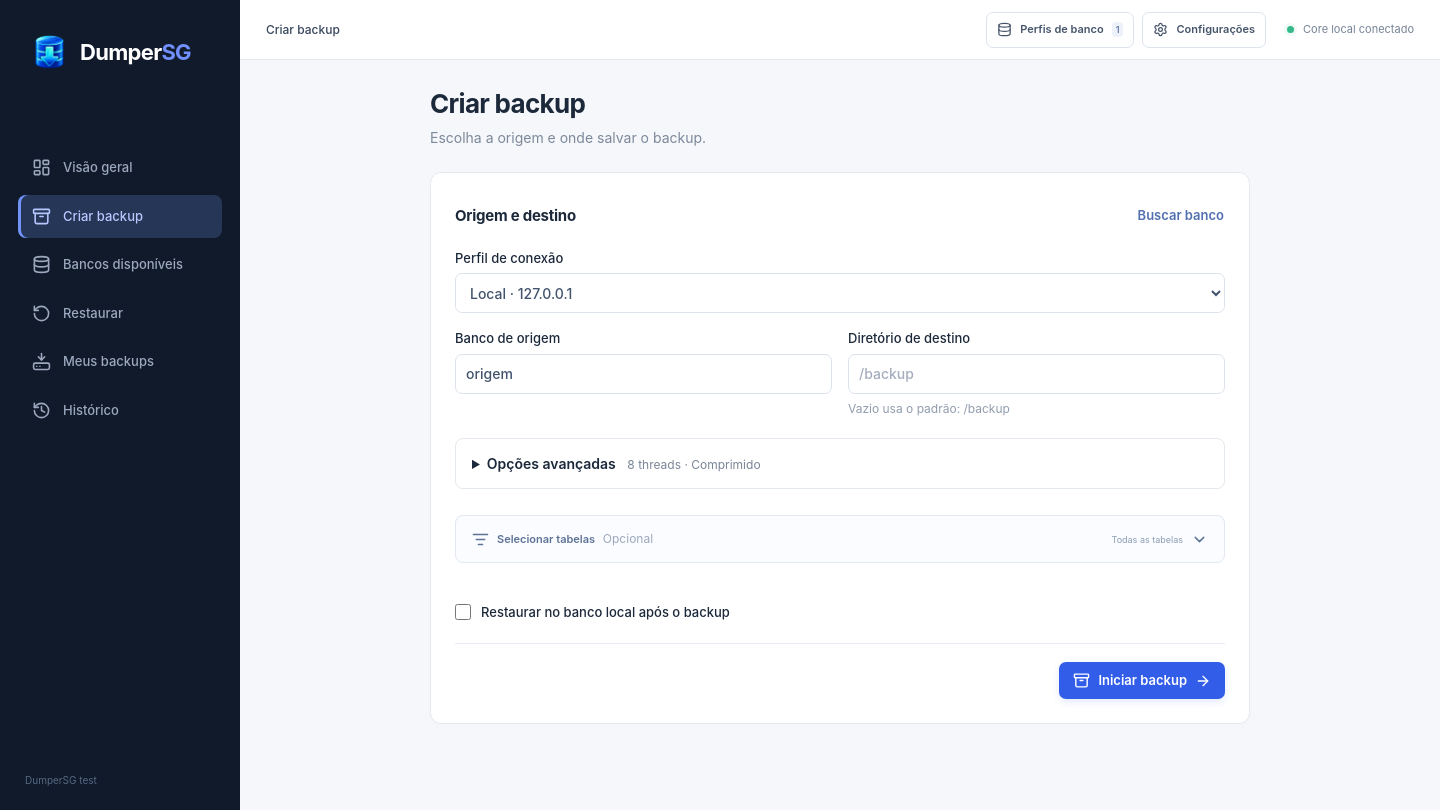
it: navegação durante operações › abre o modal ao iniciar e permite minimizar e reabrir a operação
What coordinates should you click on to do the following:
click the button "Iniciar backup"
I would click on:
 (1142, 681)
Its box is x1=1059 y1=662 x2=1225 y2=700.
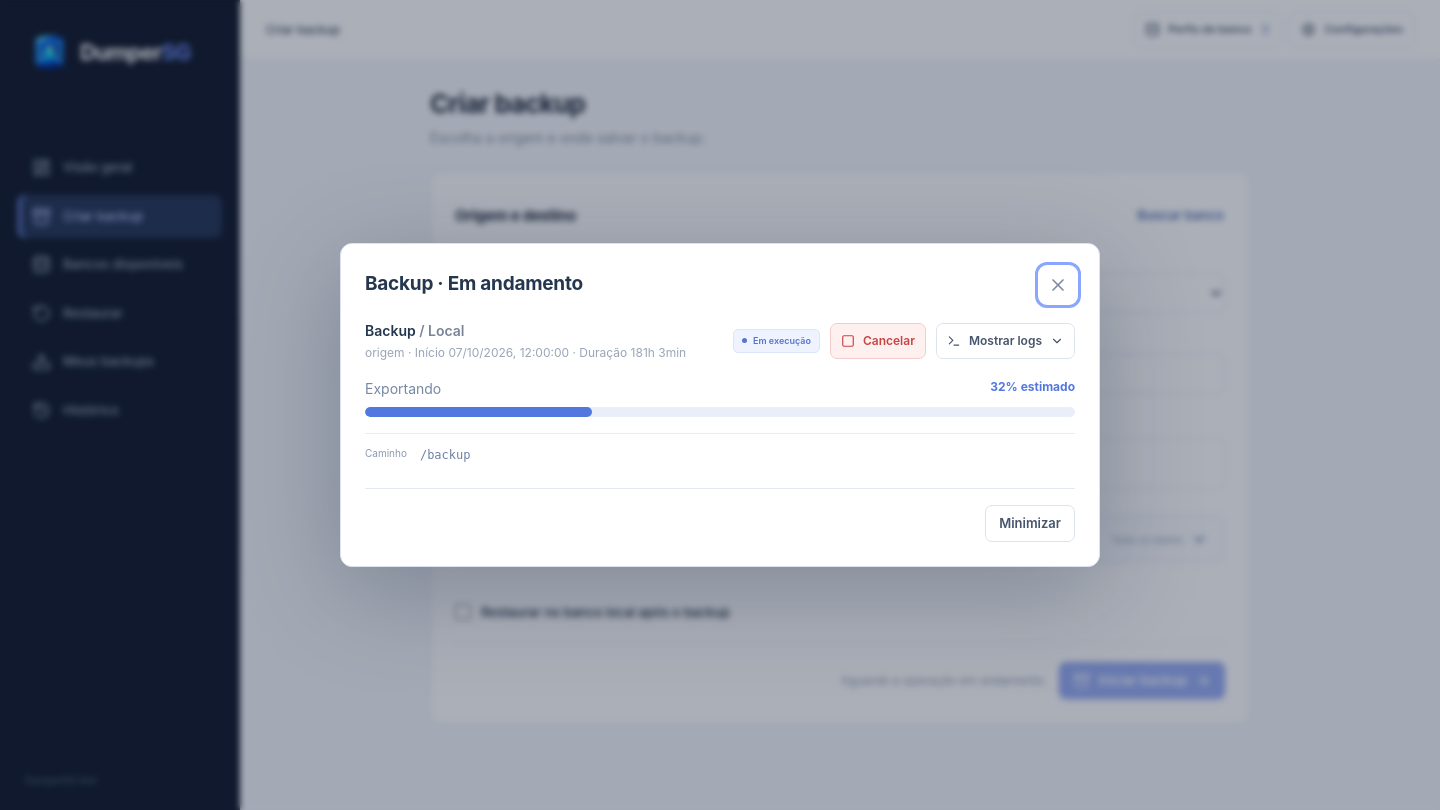
Expected: the text "32% estimado" is shown, x1=990 y1=378 x2=1075 y2=396
What coordinates should you click on to do the following:
click the button "Minimizar"
I would click on:
 (1030, 524)
Its box is x1=985 y1=505 x2=1075 y2=542.
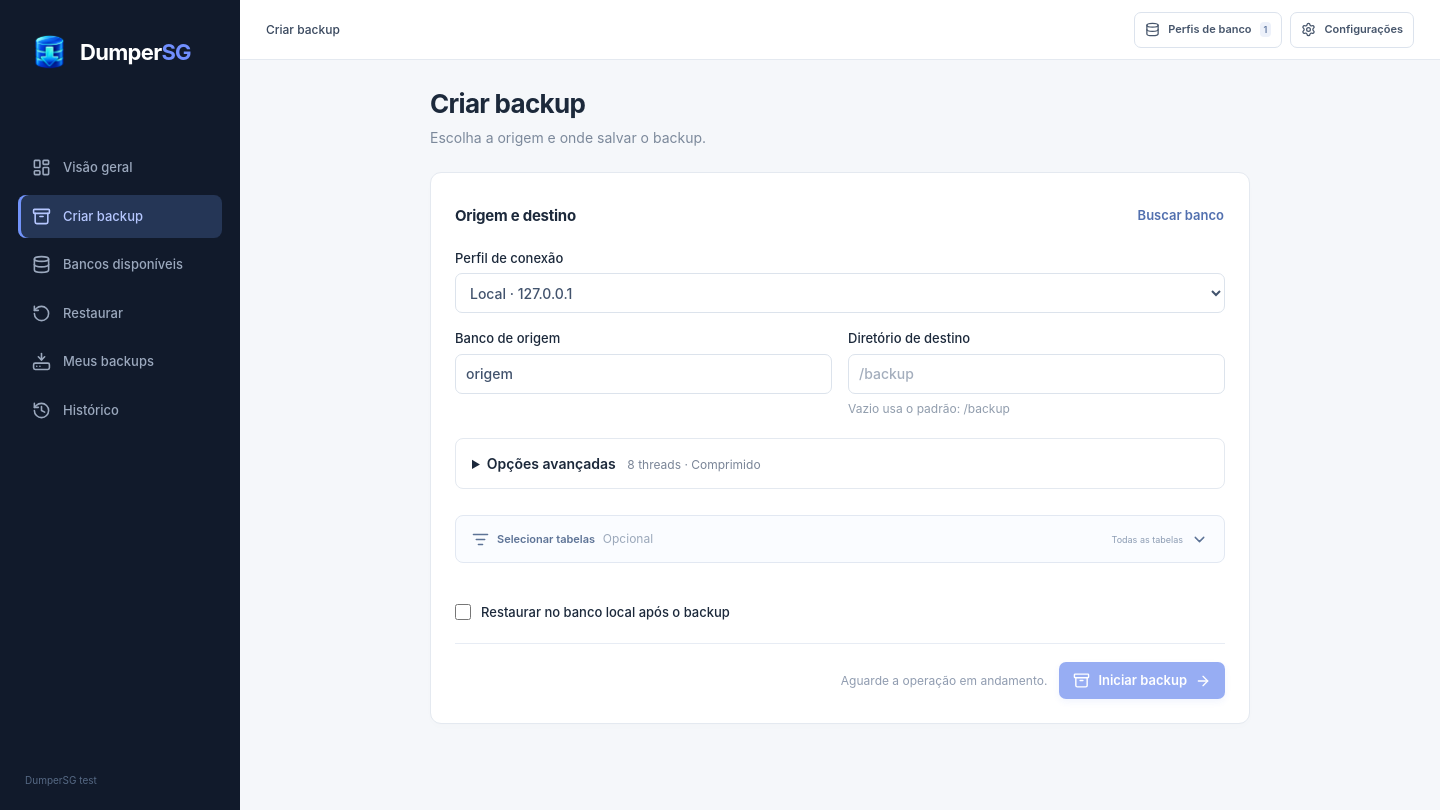
Expected: the dialog is gone
What coordinates should you click on to do the following:
click the link "Histórico"
I would click on:
 (75, 410)
Its box is x1=32 y1=401 x2=119 y2=420.
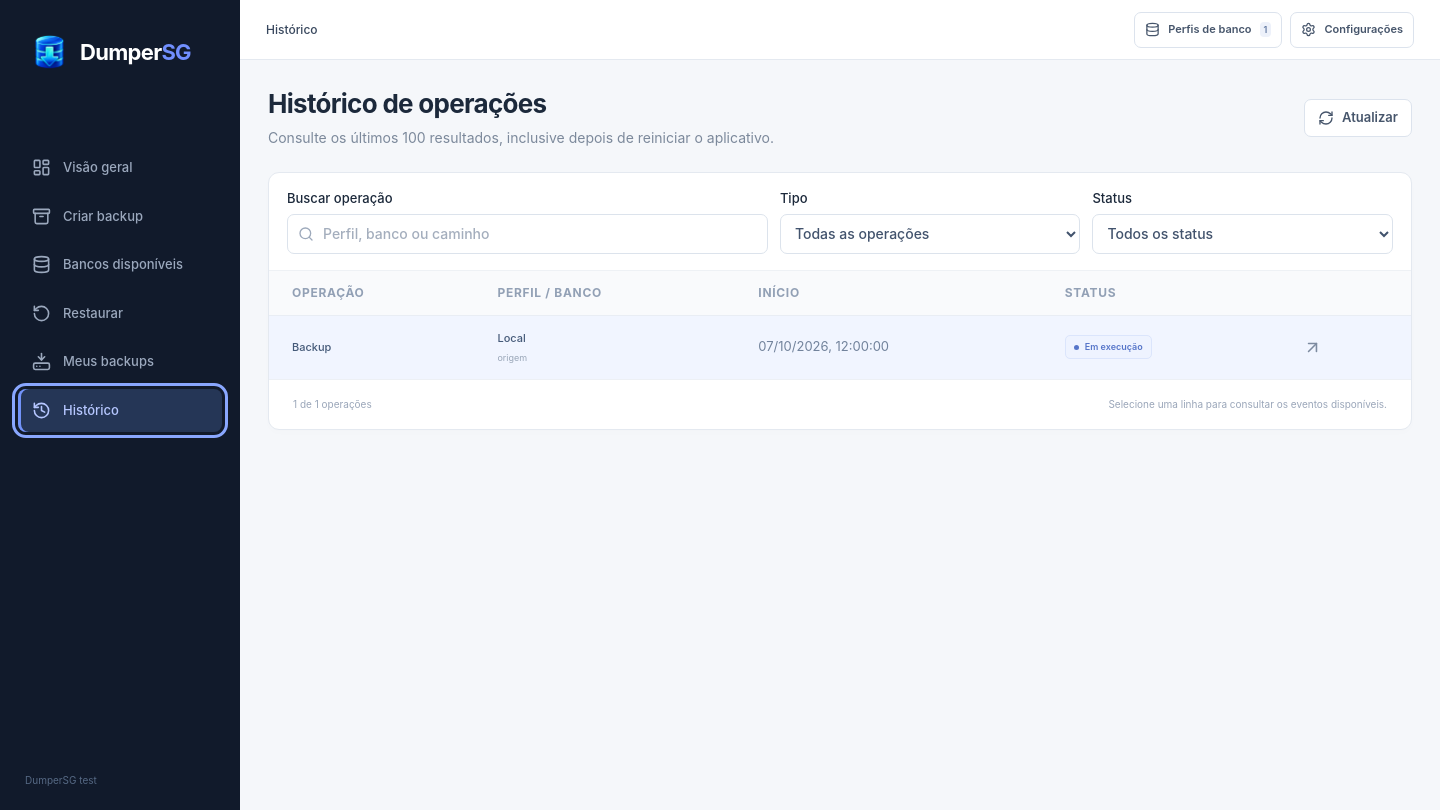
What coordinates should you click on to do the following:
click the button named "Ver detalhes de Backup em Local"
I would click on:
 (1312, 347)
Its box is x1=1295 y1=330 x2=1329 y2=364.
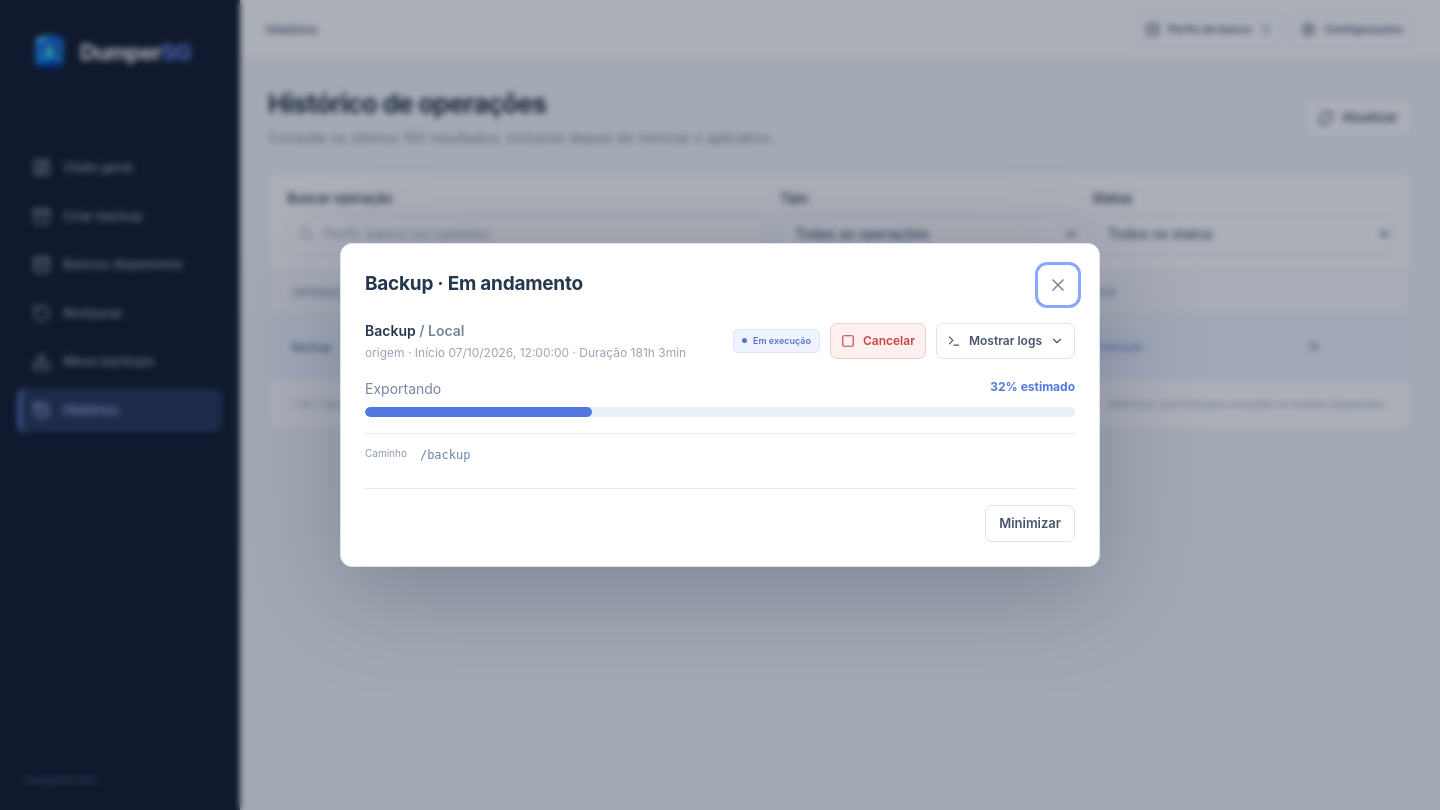
Expected: the dialog is shown, x1=340 y1=243 x2=1100 y2=567
